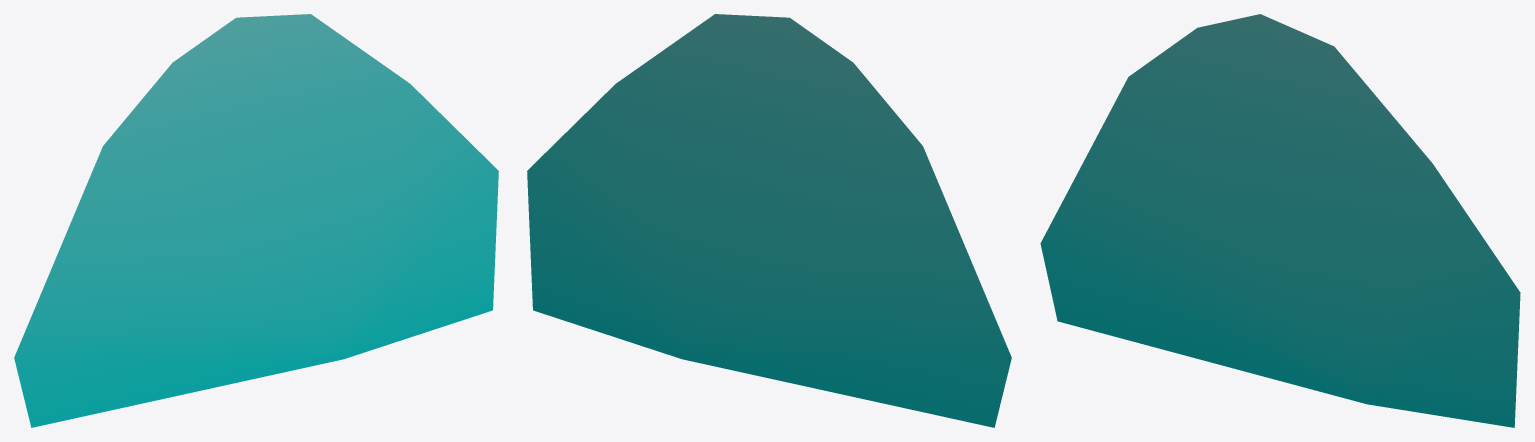
Rendered from Wild_Grass_vczndjqja_Low_vczndjqja_VarG_LOD2.fbx.
The picture shows the model from 3 angles, left to right: view 1: azimuth 30°, elevation 25°; view 2: azimuth 150°, elevation 25°; view 3: azimuth 330°, elevation 25°; orthographic projection.
Parts seen in each view (by area): view 1: _ruzo_VarG_LOD4; view 2: _ruzo_VarG_LOD4; view 3: _ruzo_VarG_LOD4.
Boxes of the visible parts, left/top/right/bottom form: _ruzo_VarG_LOD4: left=14, top=14, right=498, bottom=427; _ruzo_VarG_LOD4: left=527, top=14, right=1011, bottom=427; _ruzo_VarG_LOD4: left=1040, top=14, right=1520, bottom=427.
Bounding box in the file's own units: 118 × 85.61 × 0.
